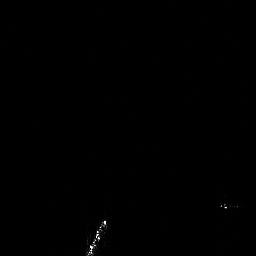ship: (86, 218, 109, 256)
